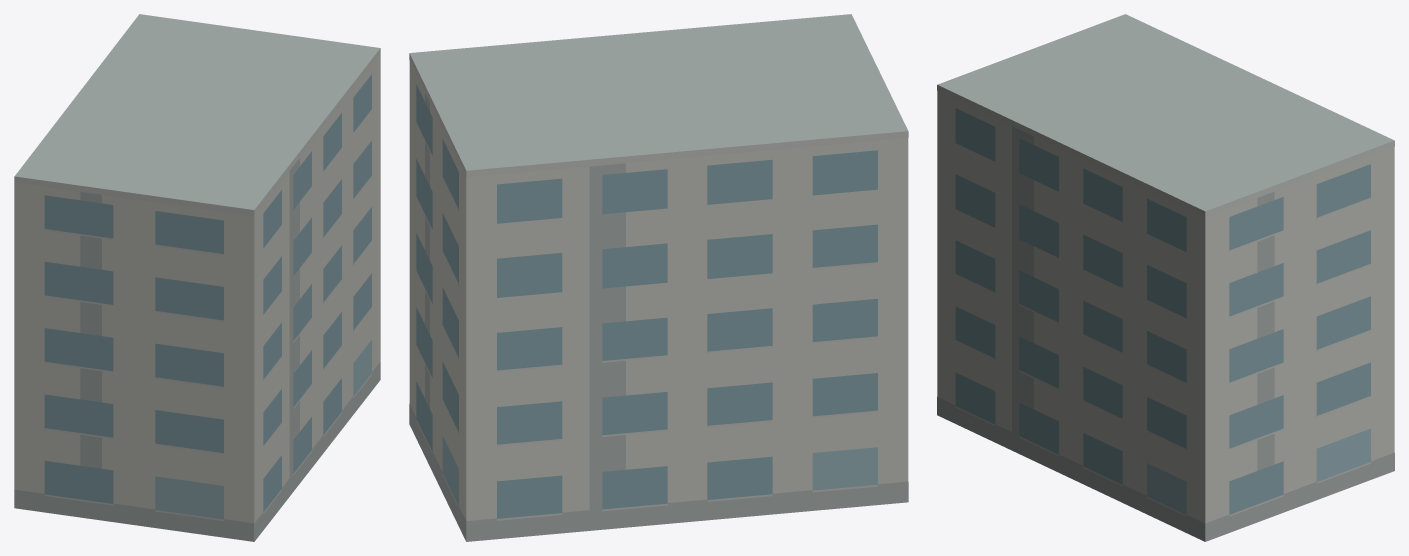
Rendered from survey-upis-32885873.glb.
3 views of the same model, side by side, from view 1: azimuth 30°, elevation 25°; view 2: azimuth 150°, elevation 25°; view 3: azimuth 270°, elevation 25° (orthographic). The views are drawn at different scales.
Visible parts, largest first — view 1: survey-upis-32885873.tmp; view 2: survey-upis-32885873.tmp; view 3: survey-upis-32885873.tmp.
Part boxes in pixels (box(x1,y1,x2,y2)): survey-upis-32885873.tmp: box(14, 14, 380, 541); survey-upis-32885873.tmp: box(409, 14, 908, 541); survey-upis-32885873.tmp: box(937, 14, 1394, 541).
Size of the model in its own units: 16.91 by 13.2 by 16.57.
